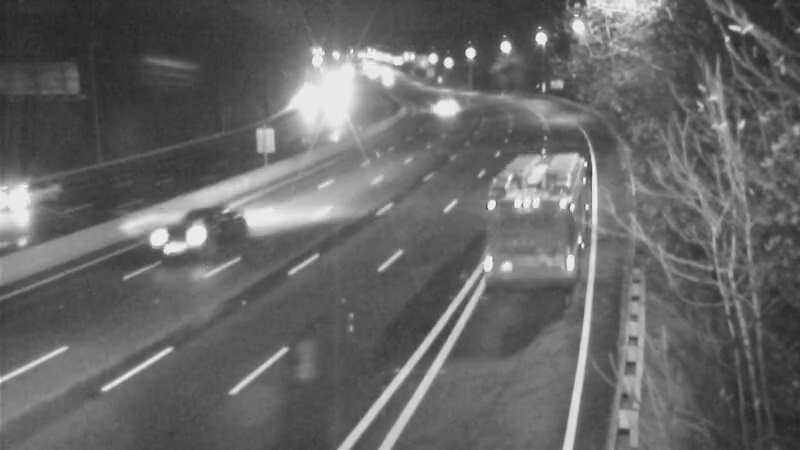vehicle: (488, 166, 568, 246), (129, 193, 209, 273), (1, 158, 68, 238), (419, 79, 469, 129)
